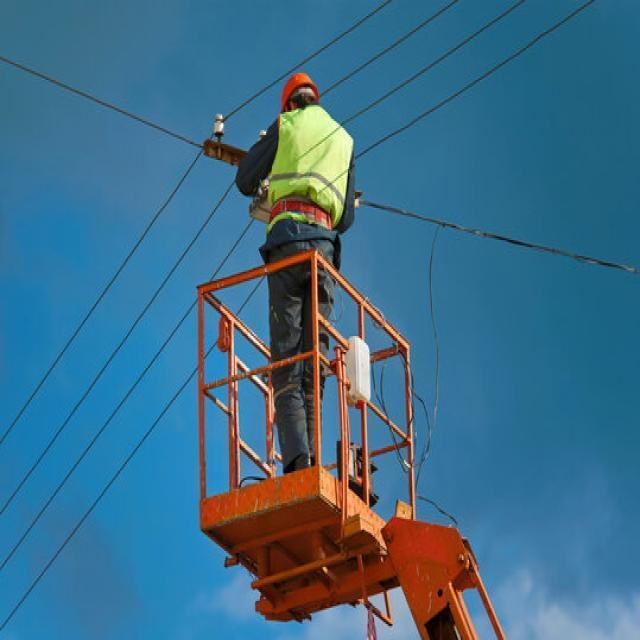Arnes_seguridad: (268, 198, 330, 228)
